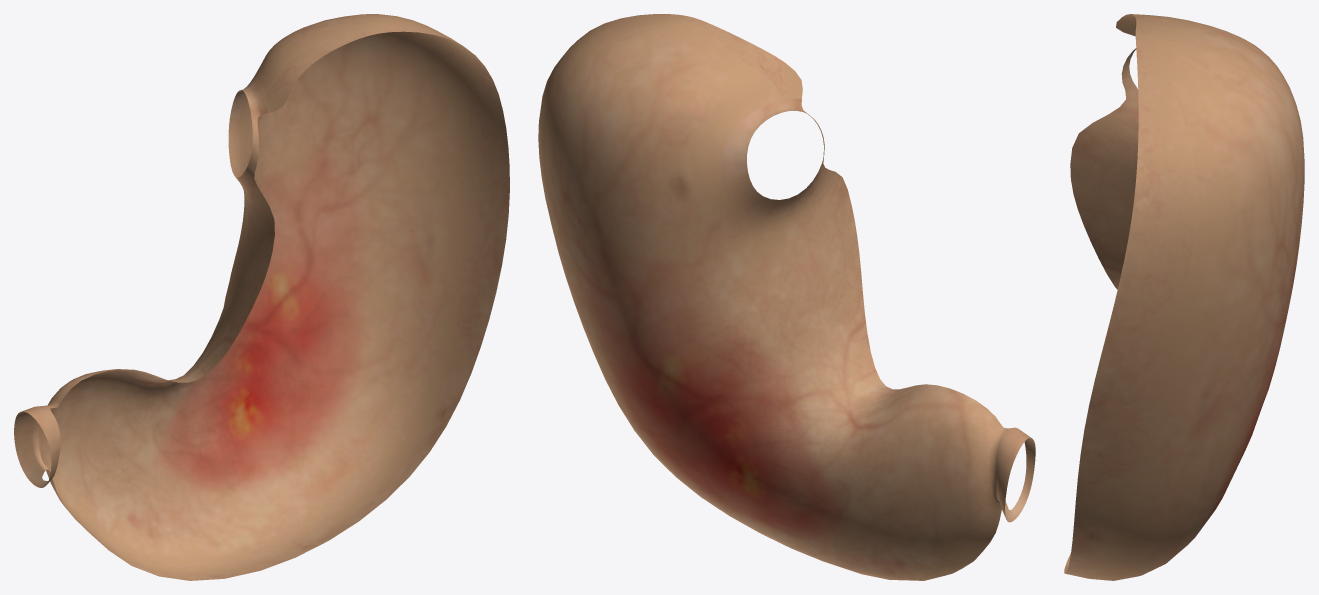
File: stomache.gltf
The picture shows the model from 3 angles, left to right: view 1: azimuth 30°, elevation 25°; view 2: azimuth 150°, elevation 25°; view 3: azimuth 270°, elevation 25°; orthographic projection. The views are drawn at different scales.
Parts seen in each view (by area): view 1: 胃; view 2: 胃; view 3: 胃.
Part boxes in pixels (x1=…): 胃: x1=14, y1=14, x2=509, y2=580; 胃: x1=538, y1=14, x2=1035, y2=580; 胃: x1=1064, y1=14, x2=1304, y2=580.
Size of the model in its own units: 2.05 by 2.08 by 0.7483.
1 material, 1 textured.
